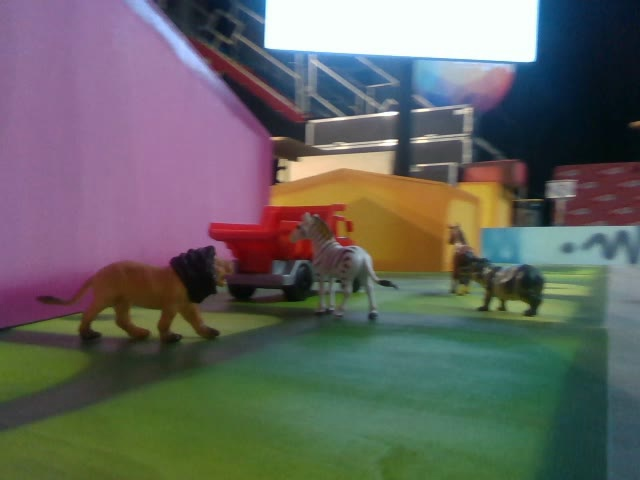toy: (28, 240, 232, 349), (283, 213, 398, 324)
